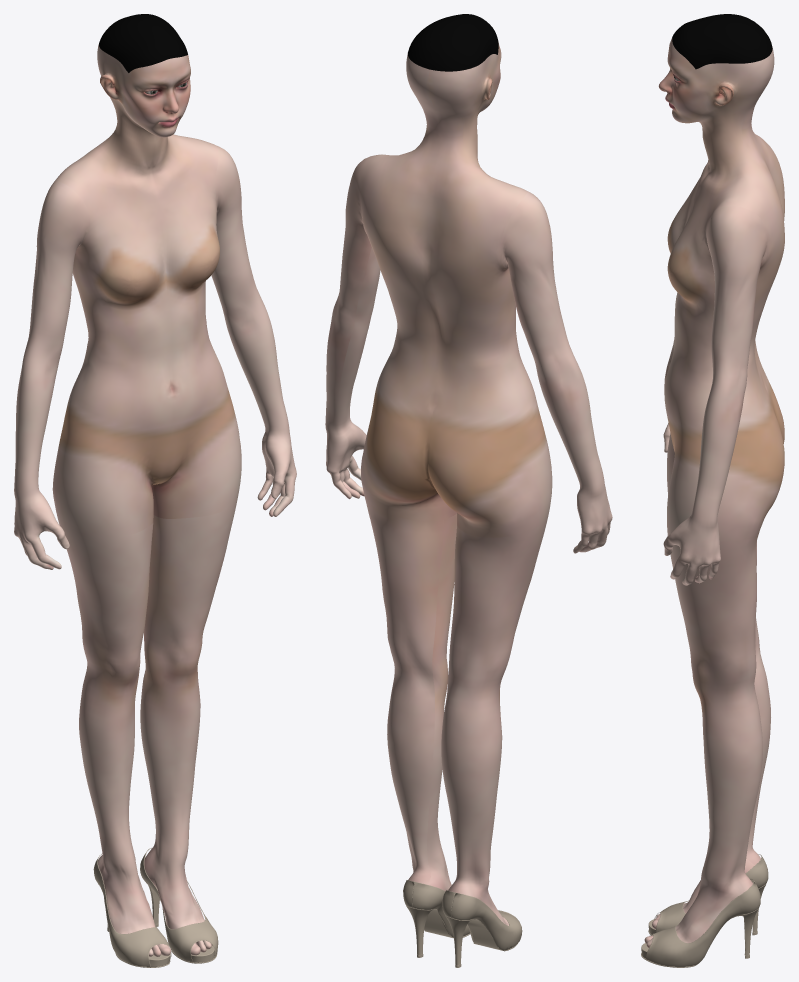
Rendered from abaya_female_body.glb.
3 views of the same model, side by side, from view 1: azimuth 30°, elevation 25°; view 2: azimuth 150°, elevation 25°; view 3: azimuth 270°, elevation 25° (orthographic).
Parts seen in each view (by area): view 1: body_Node.001, shoes_r_Node.001, shoes_l_Node.002; view 2: body_Node.001, shoes_r_Node.001, shoes_l_Node.002; view 3: body_Node.001, shoes_l_Node.002, shoes_r_Node.001, shoes_l_Node.
Boxes of the visible parts, bbox=[...] form: body_Node.001: bbox=[14, 14, 296, 956]; shoes_r_Node.001: bbox=[93, 853, 171, 967]; shoes_l_Node.002: bbox=[140, 847, 218, 963]; body_Node.001: bbox=[325, 14, 612, 925]; shoes_r_Node.001: bbox=[442, 890, 522, 967]; shoes_l_Node.002: bbox=[403, 880, 470, 943]; body_Node.001: bbox=[644, 14, 784, 947]; shoes_l_Node.002: bbox=[641, 878, 760, 967]; shoes_r_Node.001: bbox=[648, 854, 768, 935]; shoes_l_Node: bbox=[739, 908, 758, 958].
Bounding box in the file's own units: 57.05 × 185 × 26.
Materials: 5 (2 with a texture image).
